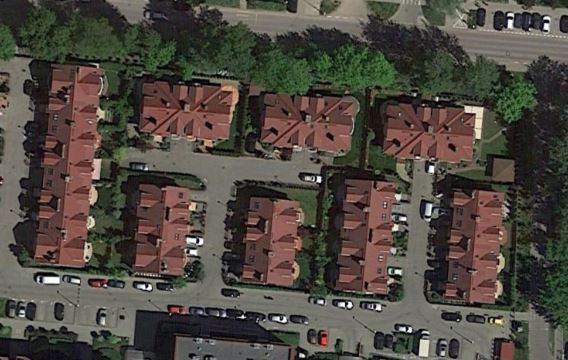terrace house: (28, 61, 108, 268), (439, 180, 503, 306), (333, 176, 396, 294), (233, 193, 308, 291), (136, 76, 238, 143), (254, 87, 358, 152), (132, 182, 195, 280), (380, 102, 482, 162)
